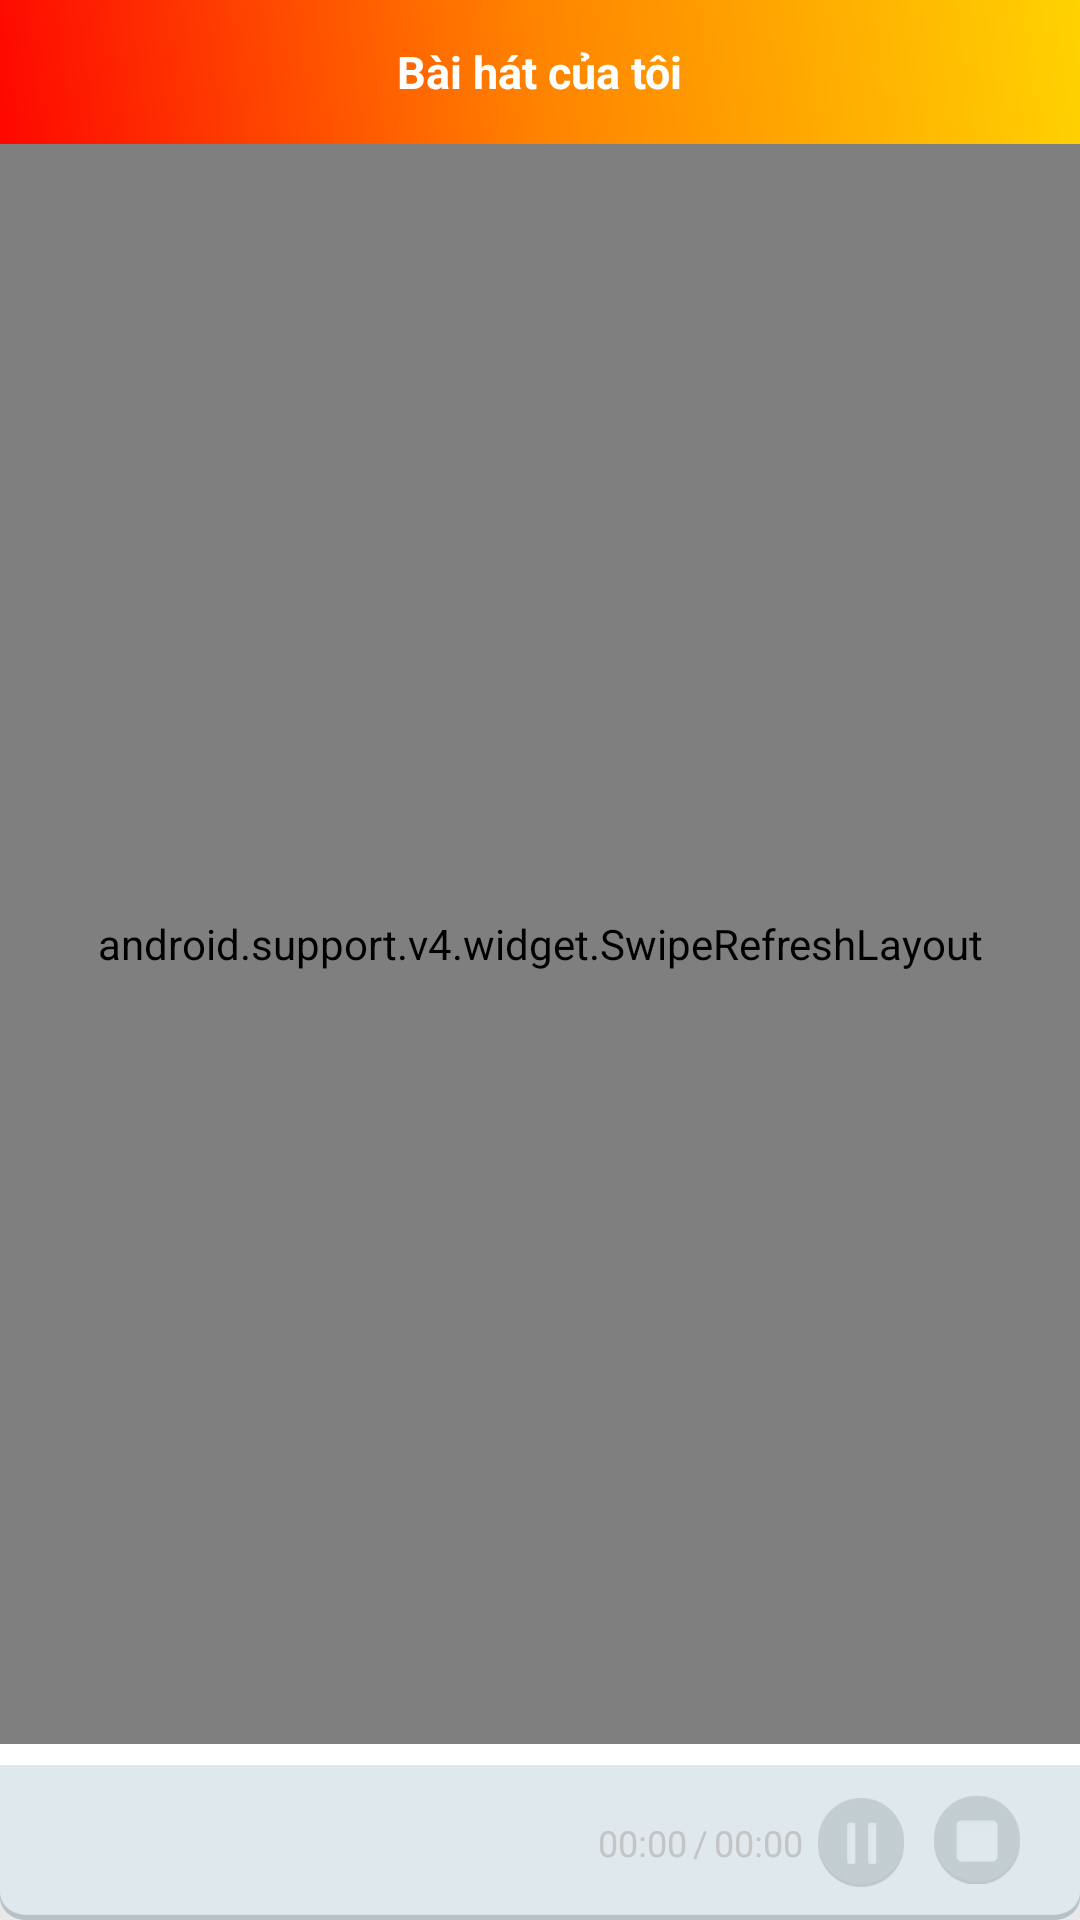

Where to tap for icons on this 1080w x 1920h app screen, as point (x, y):
pause: point (861, 1842)
stop: point (977, 1840)
